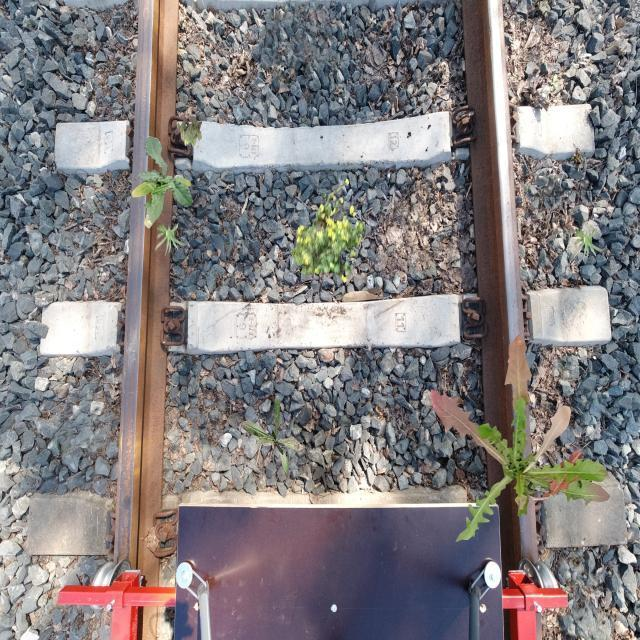Plant: (431, 333, 611, 542), (291, 178, 366, 283), (131, 135, 194, 228), (241, 395, 305, 479), (155, 222, 188, 256), (572, 228, 604, 262), (177, 116, 203, 148)
